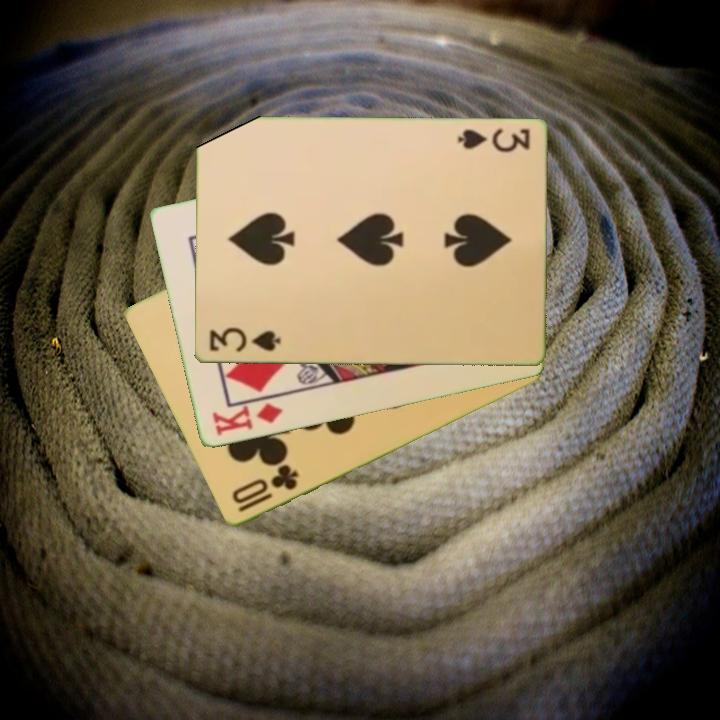10c: (228, 462, 301, 516)
3s: (454, 126, 533, 156), (205, 326, 283, 356)
Kd: (208, 400, 286, 439)
